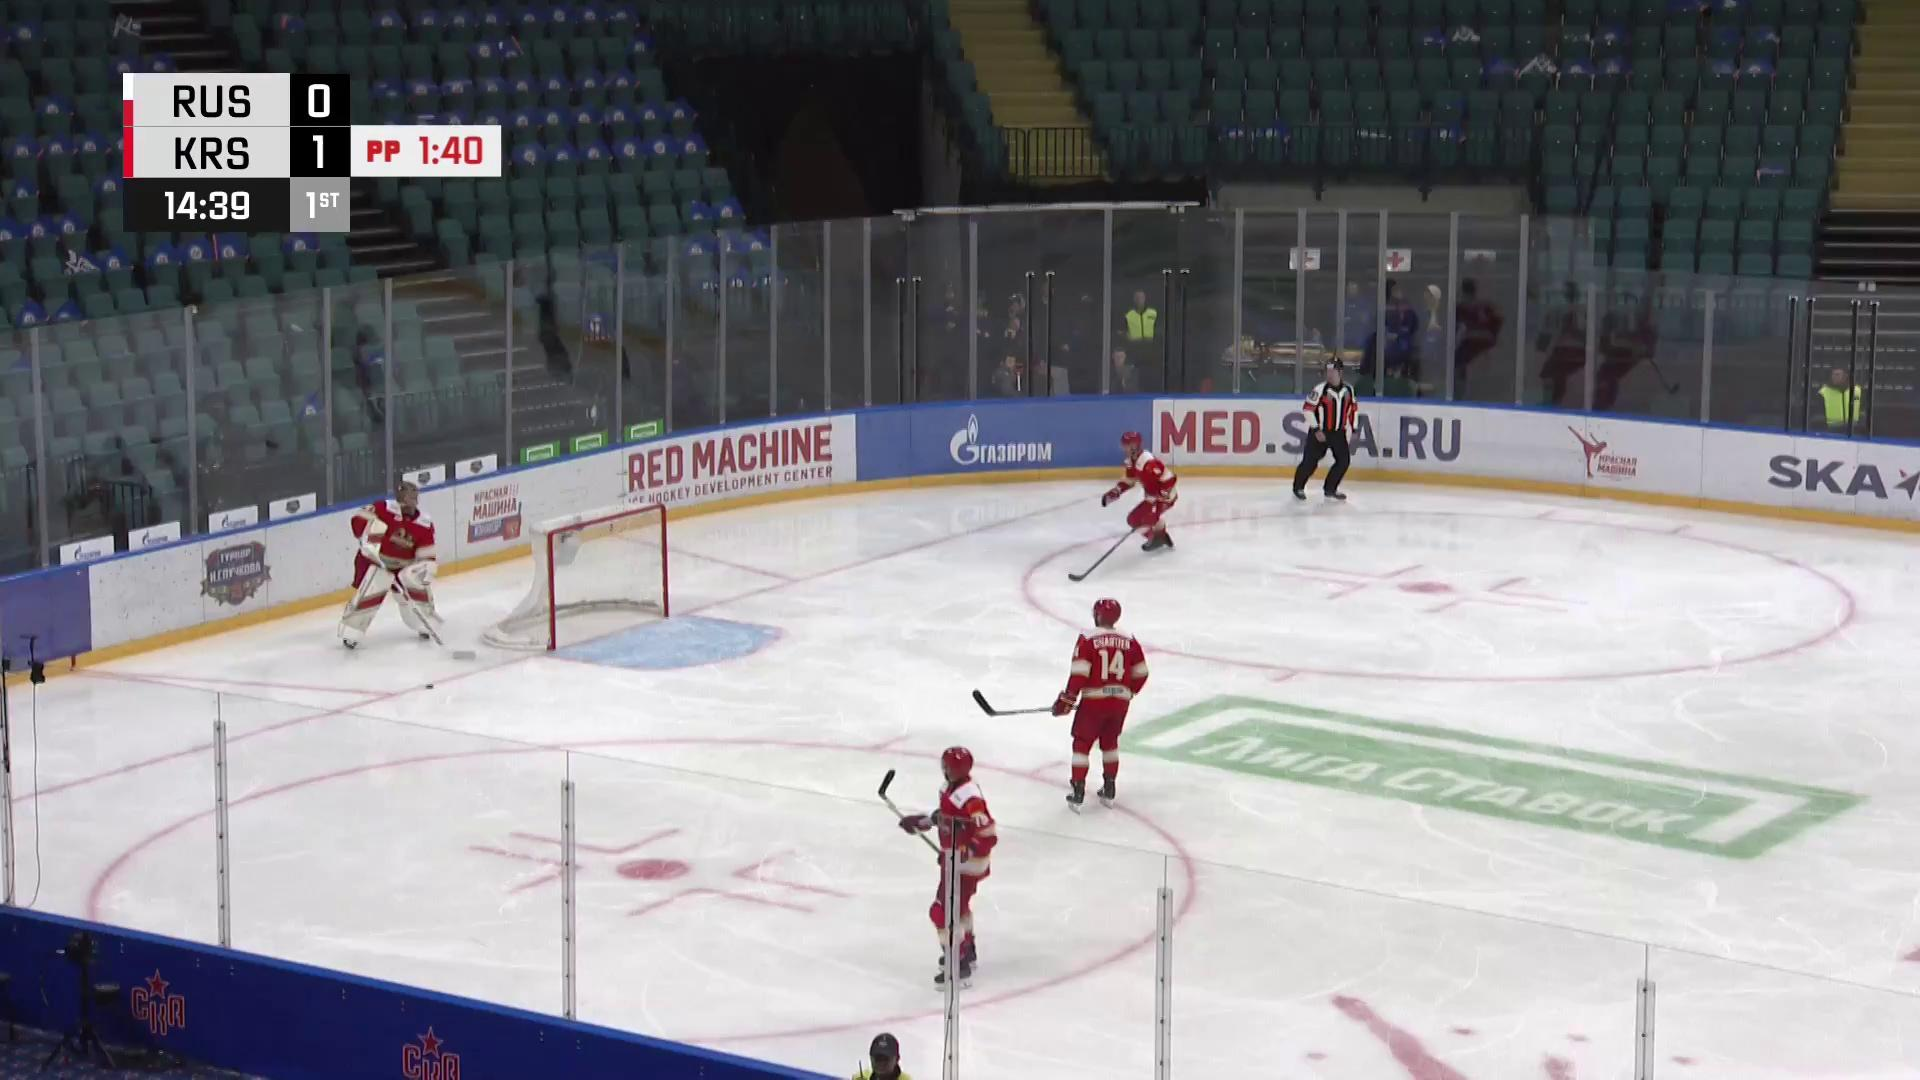ball: (422, 682, 435, 691)
